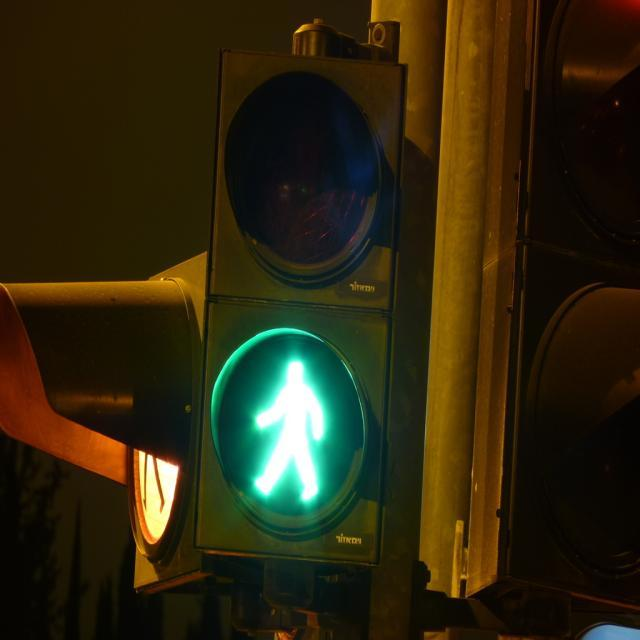traffic light: (196, 51, 404, 564)
